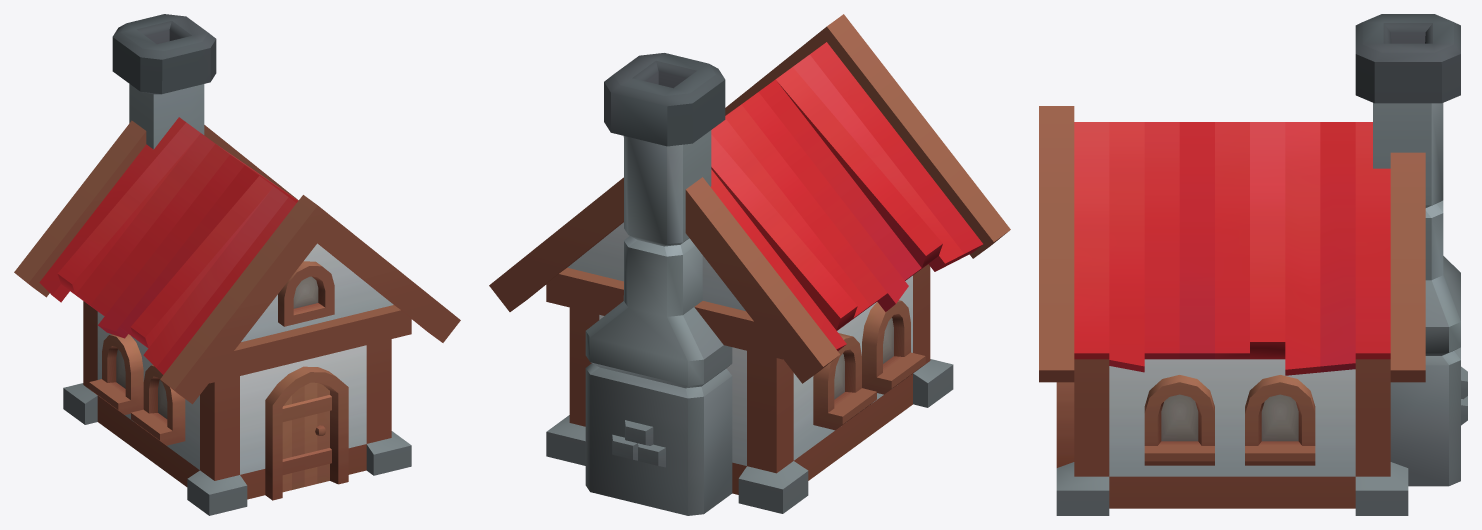
The model's file is kay-casa-vermelha.gltf.
3 renders of one model, left to right at view 1: azimuth 30°, elevation 25°; view 2: azimuth 150°, elevation 25°; view 3: azimuth 270°, elevation 25°, orthographic. The views are drawn at different scales.
Visible parts, largest first — view 1: building_home_A_red; view 2: building_home_A_red; view 3: building_home_A_red.
Part boxes in pixels (x1,y1,x2,y2): building_home_A_red: [14, 14, 460, 515]; building_home_A_red: [489, 14, 1010, 515]; building_home_A_red: [1039, 14, 1467, 515].
Size of the model in its own units: 3.96 by 4.65 by 4.27.
Materials: 1 (1 with a texture image).
